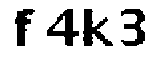3: (118, 6, 149, 53)
4: (45, 7, 81, 52)
f: (12, 6, 40, 51)
k: (82, 6, 114, 52)
